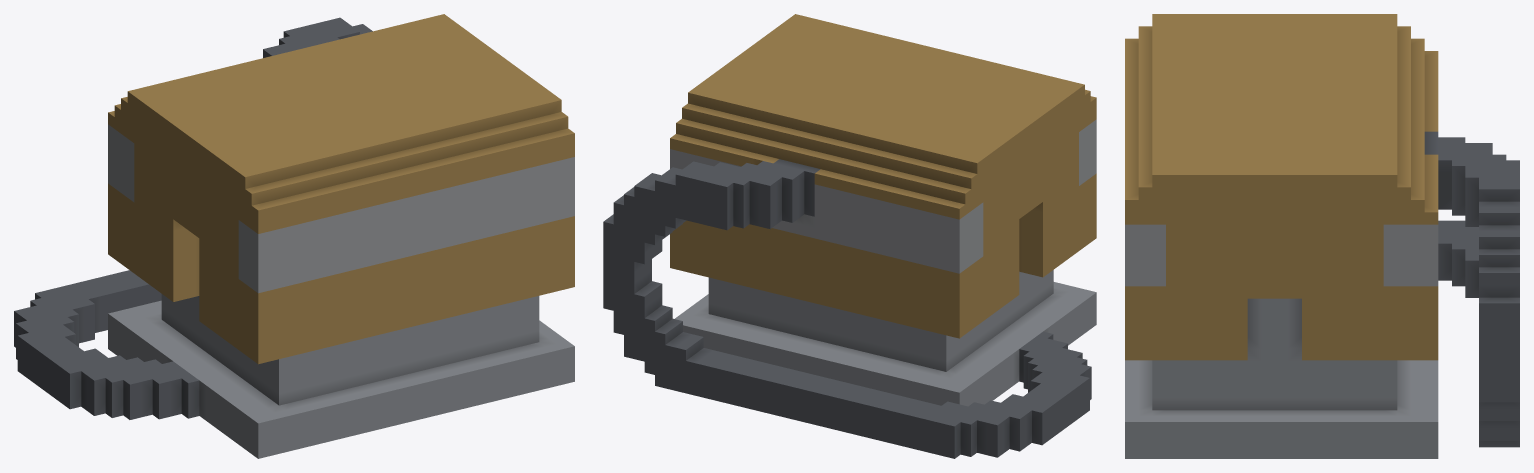
The model's file is generator.glb.
3 views of the same model, side by side, from view 1: azimuth 30°, elevation 25°; view 2: azimuth 150°, elevation 25°; view 3: azimuth 270°, elevation 25° (orthographic). The views are drawn at different scales.
Parts seen in each view (by area): view 1: voxels; view 2: voxels; view 3: voxels.
Boxes of the visible parts, bbox=[...] form: voxels: bbox=[14, 14, 574, 458]; voxels: bbox=[603, 14, 1096, 458]; voxels: bbox=[1125, 14, 1519, 458].
Bounding box in the file's own units: 0.7091 × 0.4182 × 0.5273.
